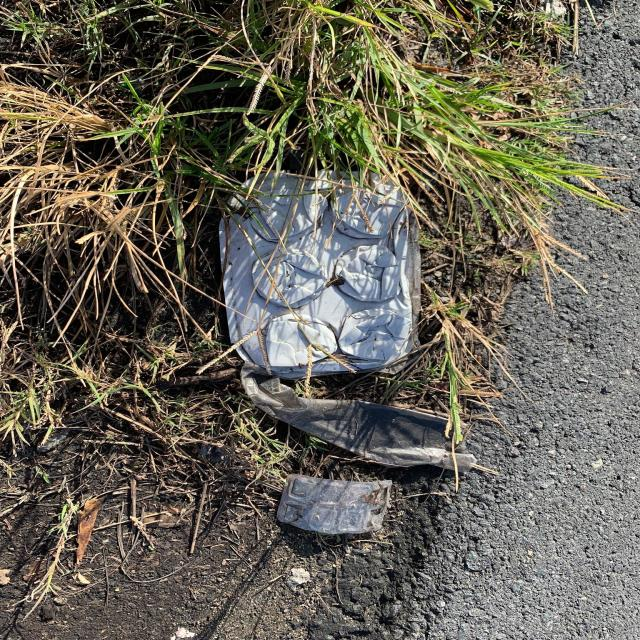litter: (217, 169, 420, 374), (243, 359, 472, 472), (278, 476, 391, 531)
